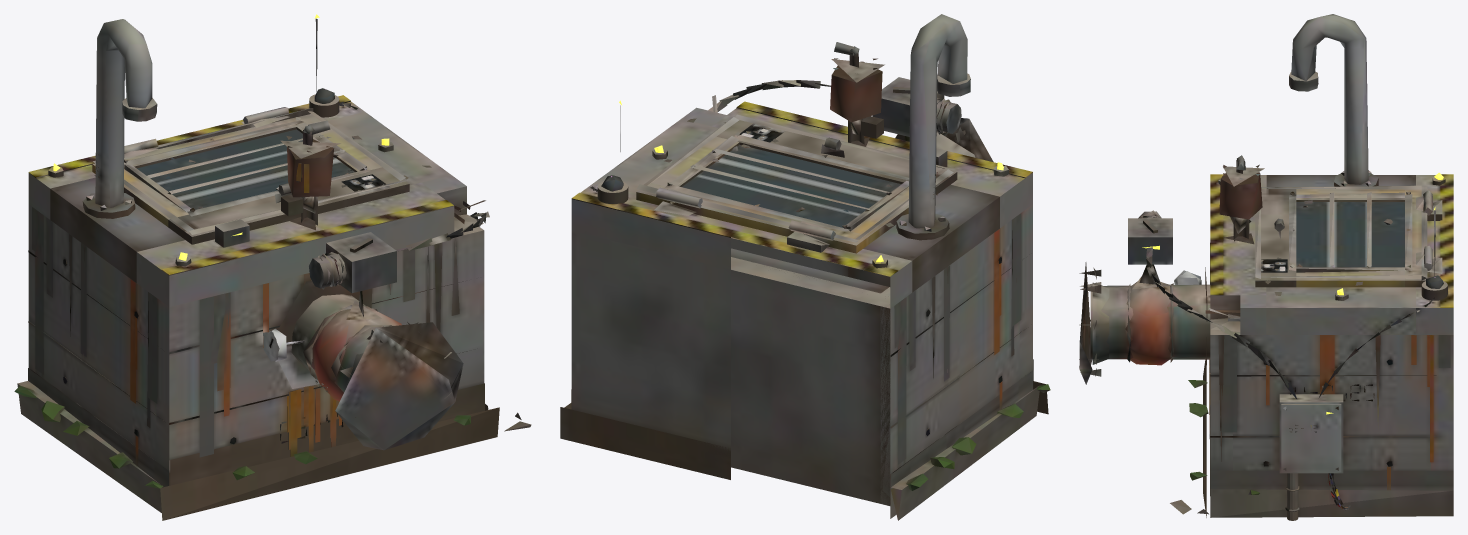
Rendered from cano_subterraneo_entrada.glb.
3 renders of one model, left to right at view 1: azimuth 30°, elevation 25°; view 2: azimuth 150°, elevation 25°; view 3: azimuth 270°, elevation 25°, orthographic. The views are drawn at different scales.
Visible parts, largest first — view 1: cano_subterraneo_entrada_corpo; view 2: cano_subterraneo_entrada_corpo; view 3: cano_subterraneo_entrada_corpo.
Part boxes in pixels (left/top/right/bottom): cano_subterraneo_entrada_corpo: left=14, top=14, right=531, bottom=520; cano_subterraneo_entrada_corpo: left=560, top=14, right=1050, bottom=520; cano_subterraneo_entrada_corpo: left=1079, top=14, right=1453, bottom=520.
Size of the model in its own units: 0.9881 by 1.11 by 1.
Materials: 4 (1 with a texture image).
